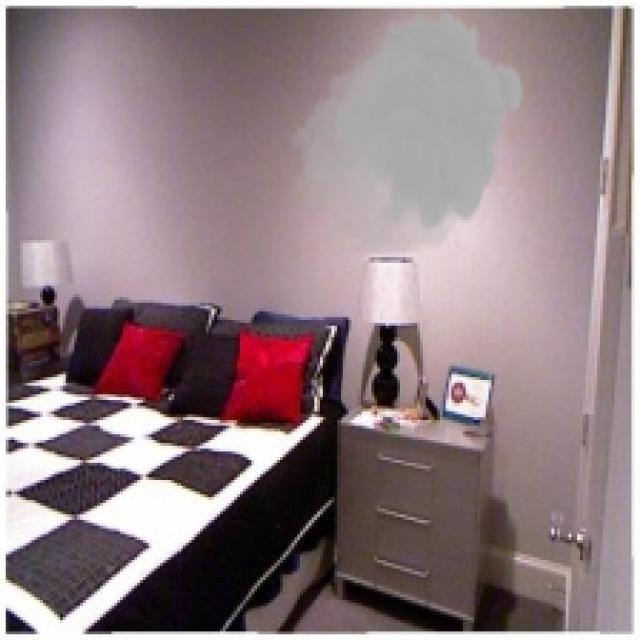smoke: (283, 6, 526, 251)
